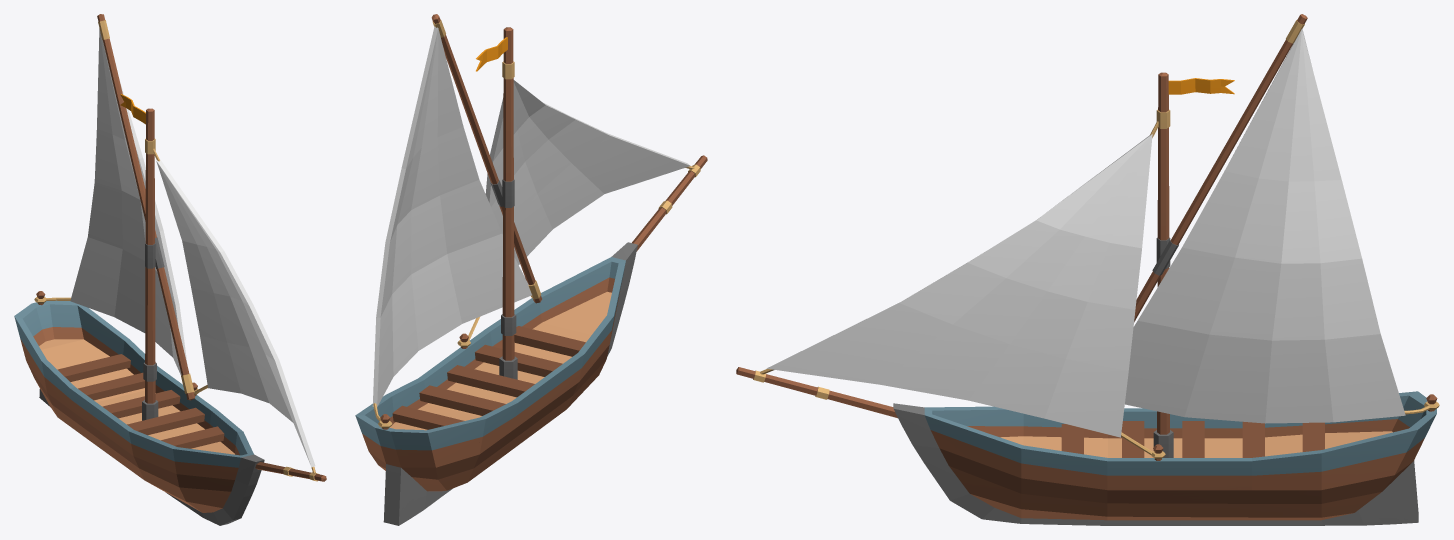
File: ship-4.glb
3 views of the same model, side by side, from view 1: azimuth 30°, elevation 25°; view 2: azimuth 150°, elevation 25°; view 3: azimuth 270°, elevation 25° (orthographic). The views are drawn at different scales.
Parts seen in each view (by area): view 1: ship 4; view 2: ship 4; view 3: ship 4.
Part boxes in pixels (x1,y1,x2,y2): ship 4: [14, 14, 326, 525]; ship 4: [355, 14, 707, 525]; ship 4: [736, 14, 1439, 525].
Size of the model in its own units: 3.02 by 13.3 by 16.55.
Materials: 1 (1 with a texture image).
